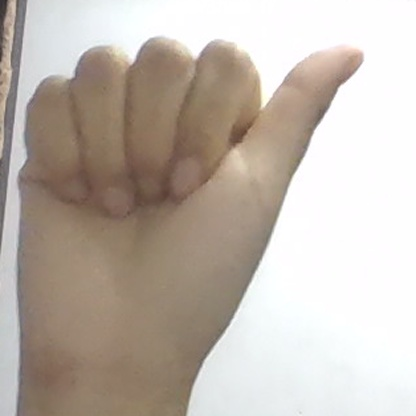A: (18, 38, 363, 386)
